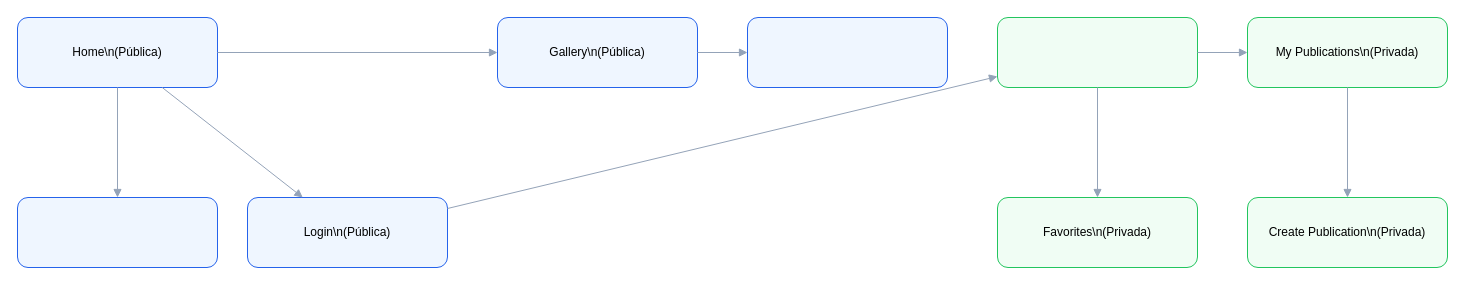
This 1465x285 diagram has some shape labels left out. The centre of each missing label's shape, as x and y in pixels:
Product Detail\n(Pública): the point at 847,52
Profile\n(Privada): the point at 1097,52
Register\n(Pública): the point at 117,232
